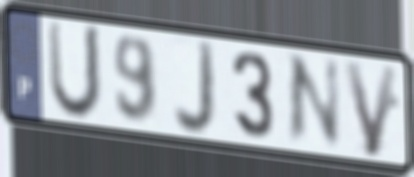3: (230, 50, 278, 142)
9: (111, 32, 159, 128)
J: (172, 36, 218, 140)
N: (284, 51, 343, 150)
U: (45, 16, 104, 125)
V: (341, 58, 401, 162)
